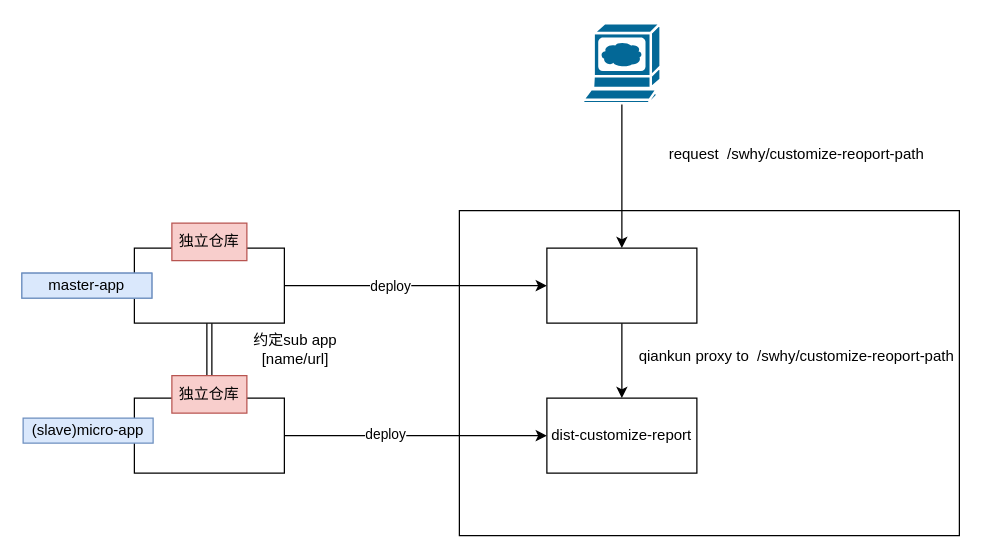
Image size: 988x558. Some labels were removed from this diagram. Here are the shapes that lost their labels. From the top down, the box of each, then its label:
(133, 247, 284, 323): BCT平台
(546, 247, 697, 323): dist
(133, 397, 284, 473): 自定义报表
